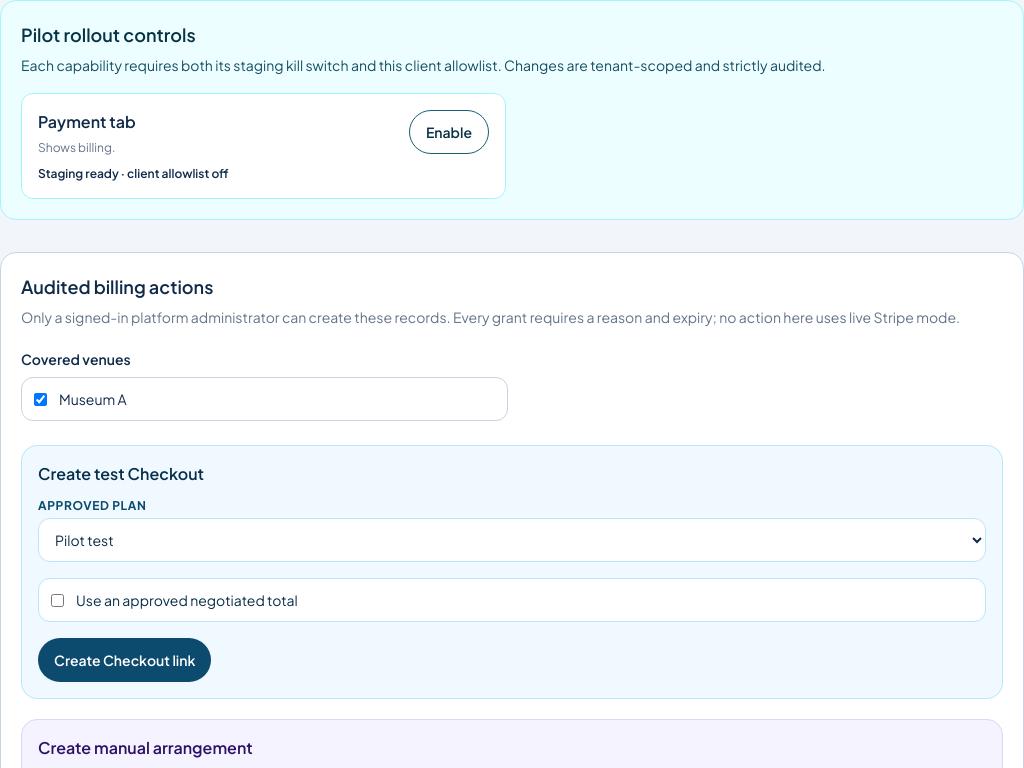
Test case: AdminBillingControls negotiated Checkout › changes only an allowlisted client rollout capability through the audited admin mutation
Click the button "Enable" at [449, 132], box top-left (409, 110), bottom-right (489, 154)
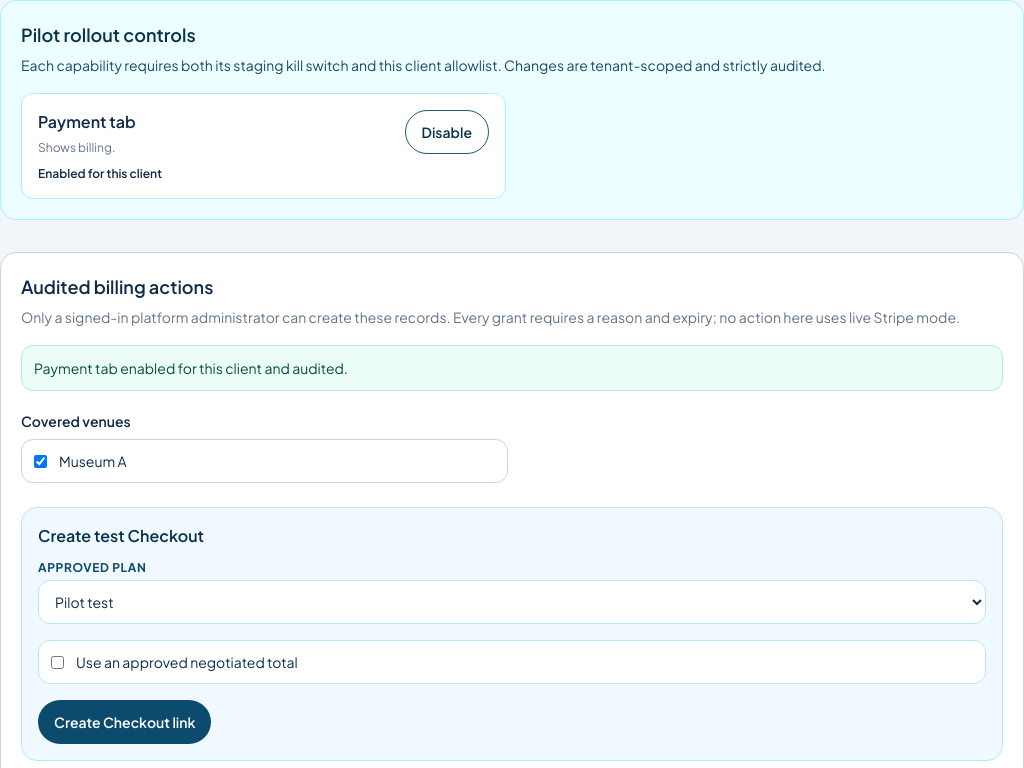
Now the text "Enabled for this client" is shown, box top-left (38, 166), bottom-right (162, 182)
